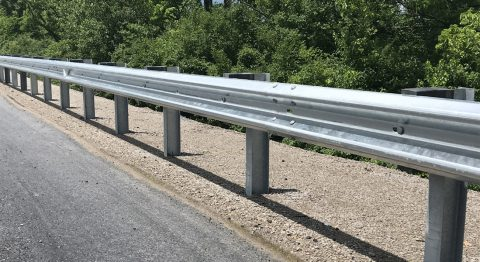not_damaged: (78, 51, 427, 161)
